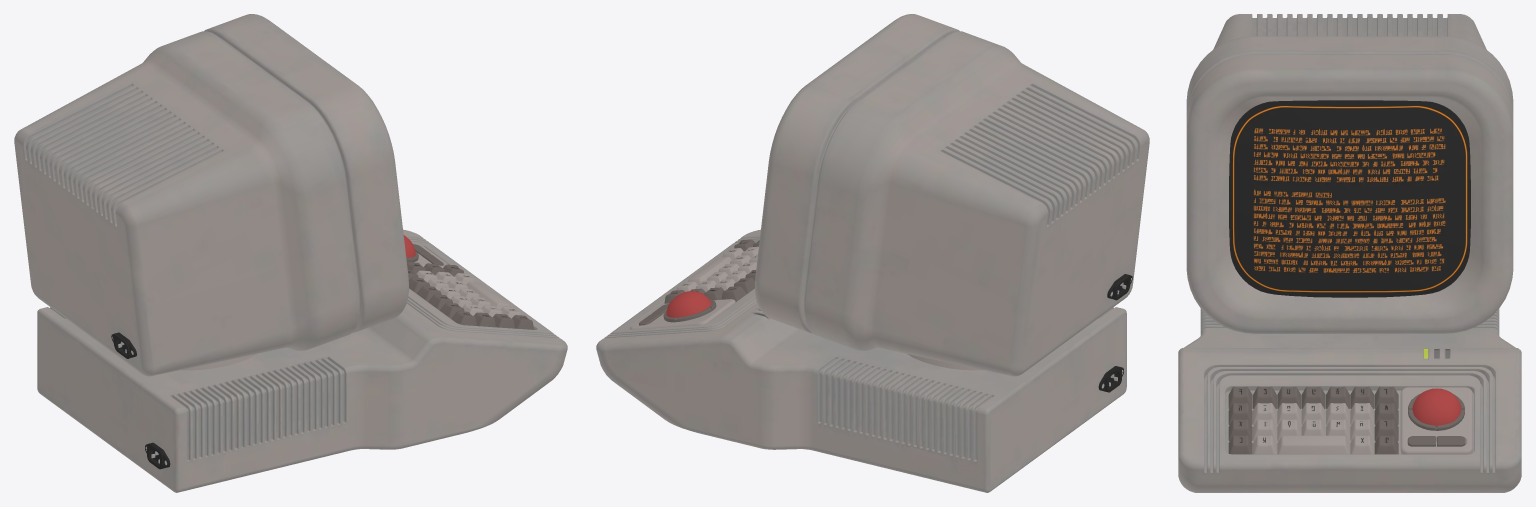
The model's file is computer-transformed.glb.
3 views of the same model, side by side, from view 1: azimuth 30°, elevation 25°; view 2: azimuth 150°, elevation 25°; view 3: azimuth 270°, elevation 25° (orthographic). The views are drawn at different scales.
Visible parts, largest first — view 1: Part2, Part1; view 2: Part2, Part1; view 3: Part2, Part1.
Boxes of the visible parts, x1,y1,x2,y2 form: Part2: [14, 14, 567, 492]; Part1: [111, 235, 533, 469]; Part2: [596, 14, 1149, 492]; Part1: [630, 239, 1132, 392]; Part2: [1178, 14, 1521, 492]; Part1: [1228, 100, 1472, 454].
Size of the model in its own units: 2 by 1.55 by 1.32.
2 materials, 2 textured.
